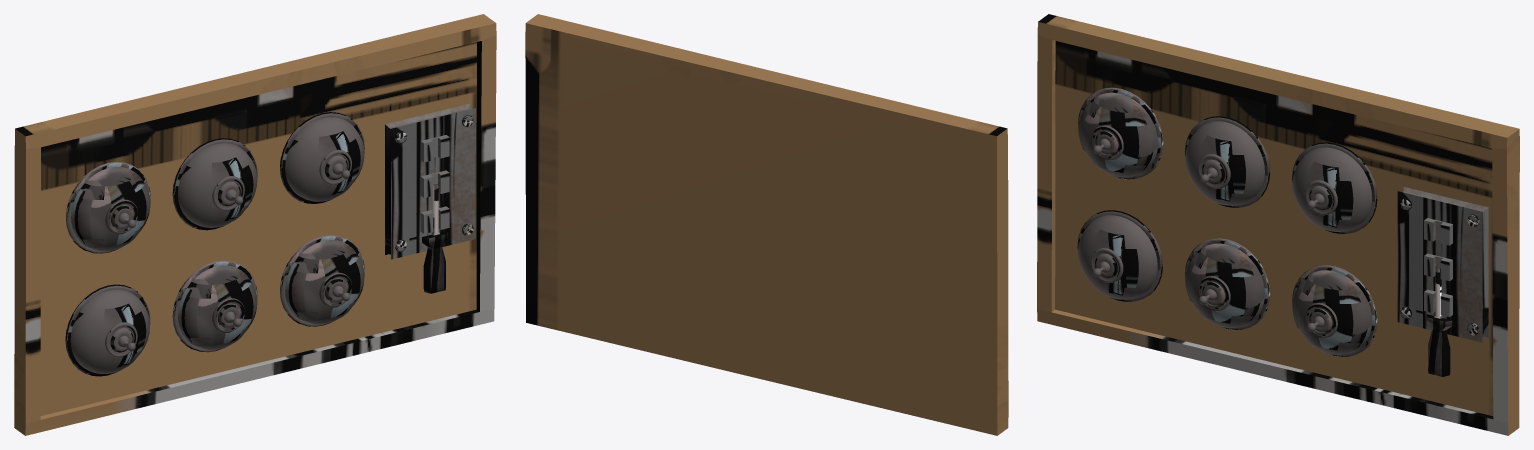
File: Cuadro_Luces_FV.fbx
3 views of the same model, side by side, from view 1: azimuth 30°, elevation 25°; view 2: azimuth 150°, elevation 25°; view 3: azimuth 330°, elevation 25° (orthographic).
Parts seen in each view (by area): view 1: CuadroLucesNuevo, Object001, Interruptor esfera008, Interruptor esfera010, Interruptor esfera007, Interruptor esfera005, Interruptor esfera006, Interruptor esfera009, PalancaInterruptGeneral; view 2: CuadroLucesNuevo; view 3: CuadroLucesNuevo, Object001, Interruptor esfera009, Interruptor esfera008, Interruptor esfera005, Interruptor esfera010, Interruptor esfera006, Interruptor esfera007, PalancaInterruptGeneral.
Part boxes in pixels (x1,y1,x2,y2): CuadroLucesNuevo: (14,14,496,435); Object001: (385,103,475,259); Interruptor esfera008: (66,161,150,253); Interruptor esfera010: (65,284,150,376); Interruptor esfera007: (172,260,257,352); Interruptor esfera005: (280,235,364,326); Interruptor esfera006: (280,112,364,203); Interruptor esfera009: (172,138,257,230); PalancaInterruptGeneral: (422,183,447,293); CuadroLucesNuevo: (525,14,1008,435); CuadroLucesNuevo: (1037,14,1519,435); Object001: (1397,187,1488,342); Interruptor esfera009: (1184,116,1270,207); Interruptor esfera008: (1078,87,1163,179); Interruptor esfera005: (1292,265,1377,357); Interruptor esfera010: (1077,210,1162,301); Interruptor esfera006: (1292,142,1377,234); Interruptor esfera007: (1185,238,1270,330); PalancaInterruptGeneral: (1426,267,1452,376).
Bounding box in the file's own units: 13.57 × 8.28 × 1.87.
